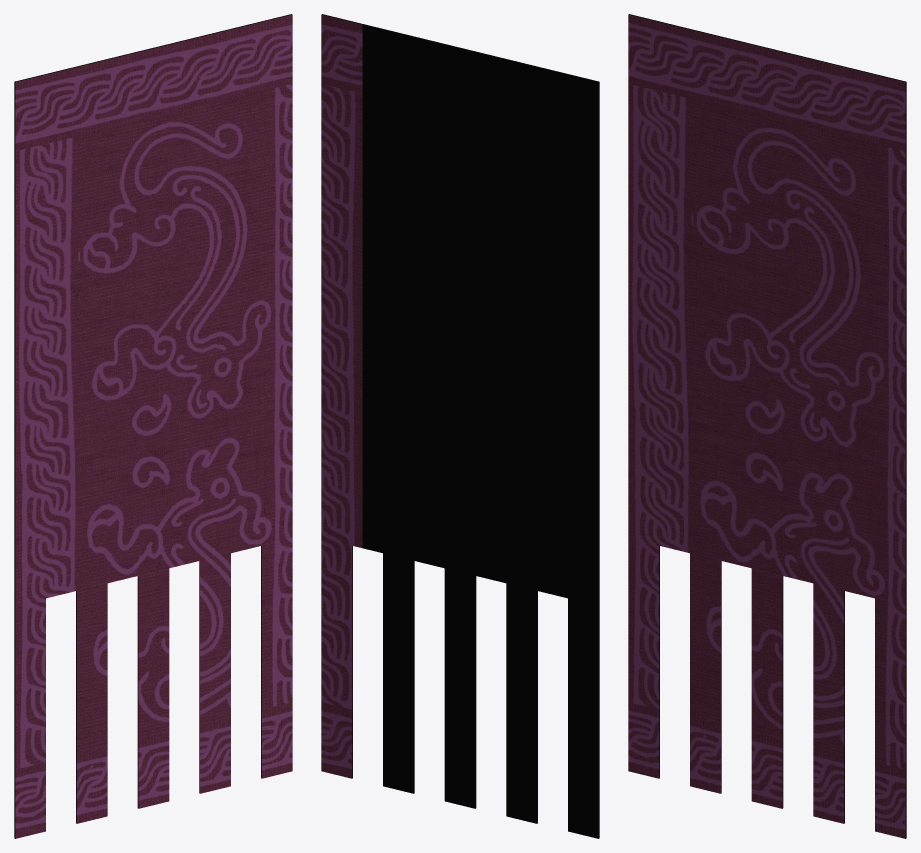
3 renders of one model, left to right at view 1: azimuth 30°, elevation 25°; view 2: azimuth 150°, elevation 25°; view 3: azimuth 330°, elevation 25°, orthographic.
Visible parts, largest first — view 1: 平面.010_Baked; view 2: 平面.010_Baked; view 3: 平面.010_Baked.
Part boxes in pixels (<box>): 平面.010_Baked: <box>14,14,292,838</box>; 平面.010_Baked: <box>321,14,599,838</box>; 平面.010_Baked: <box>628,14,906,838</box>.
Bounding box in the file's own units: 140 × 365 × 0.6418.
